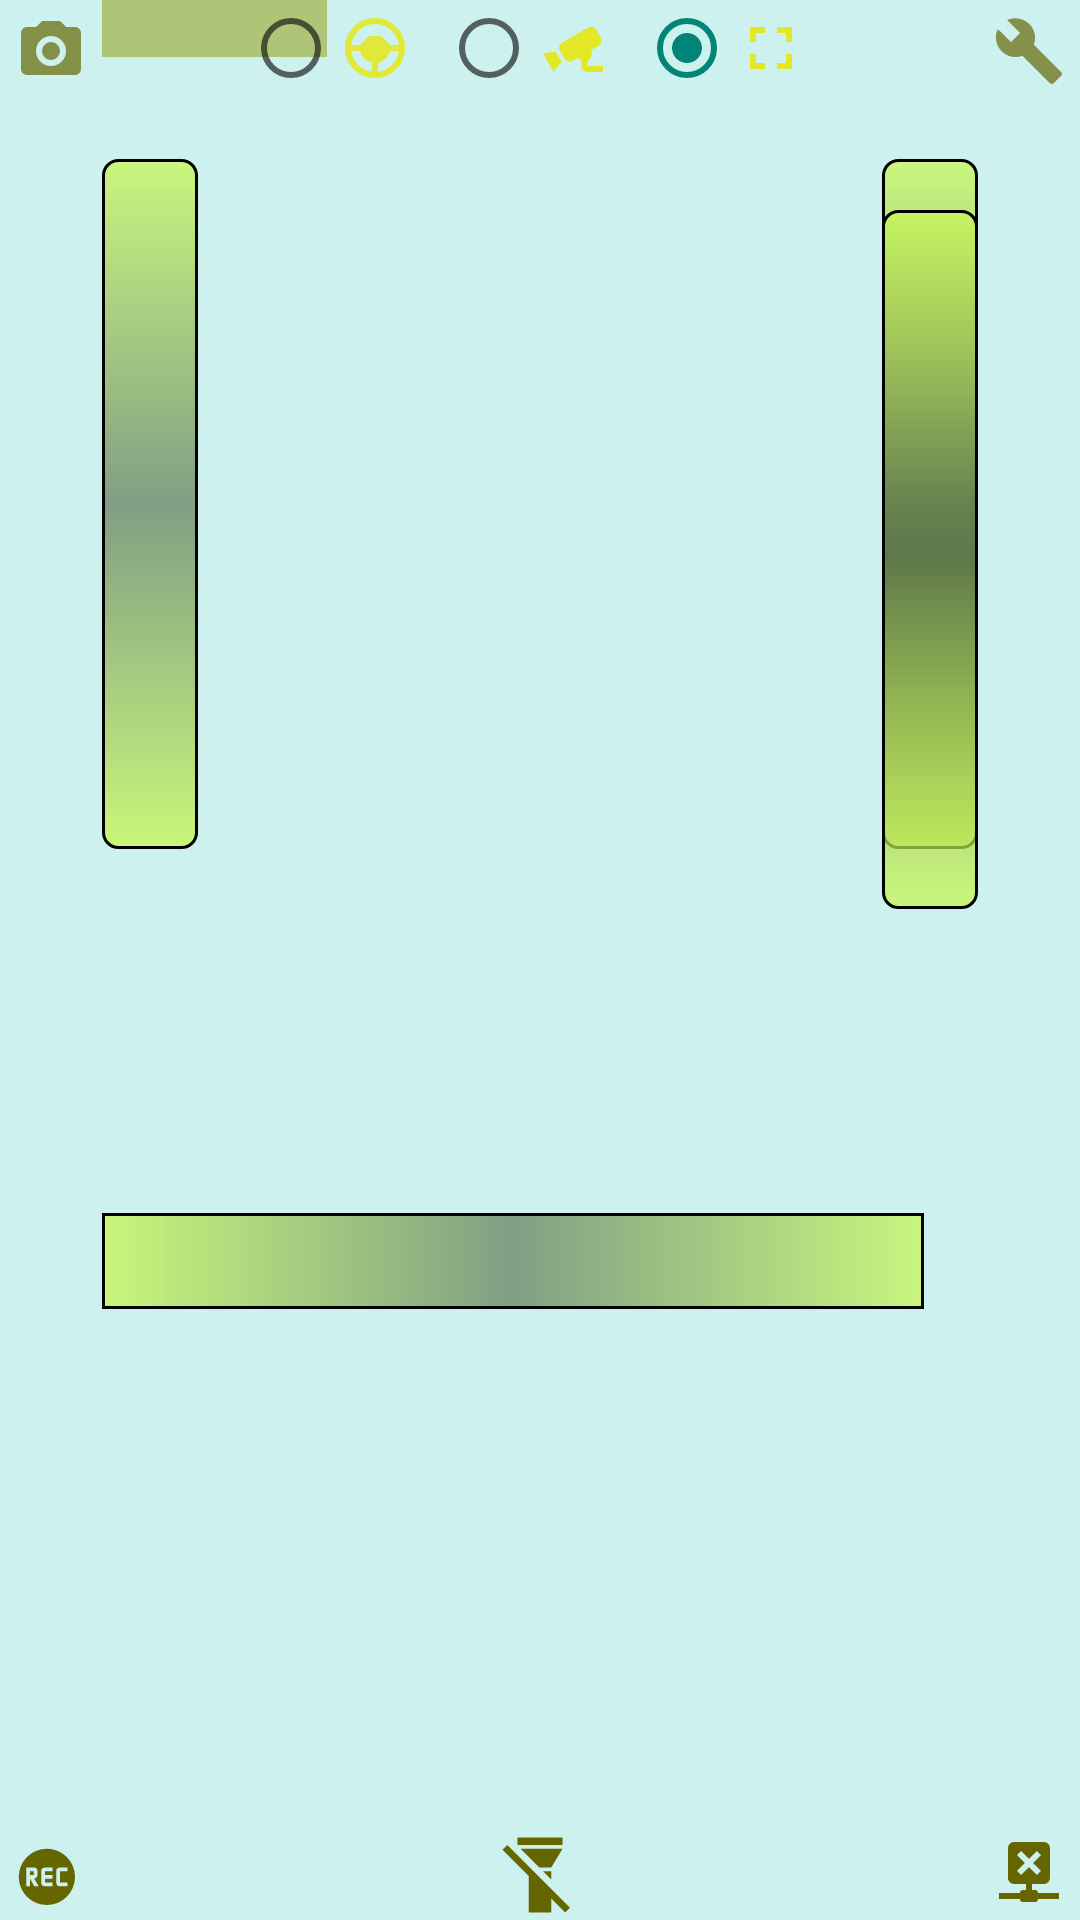

Where to tap for icons on this 1080×1920 app screen, as (x=x, y=y):
close network: (x=1029, y=1872)
configure: (x=1029, y=51)
snapshot: (x=51, y=48)
